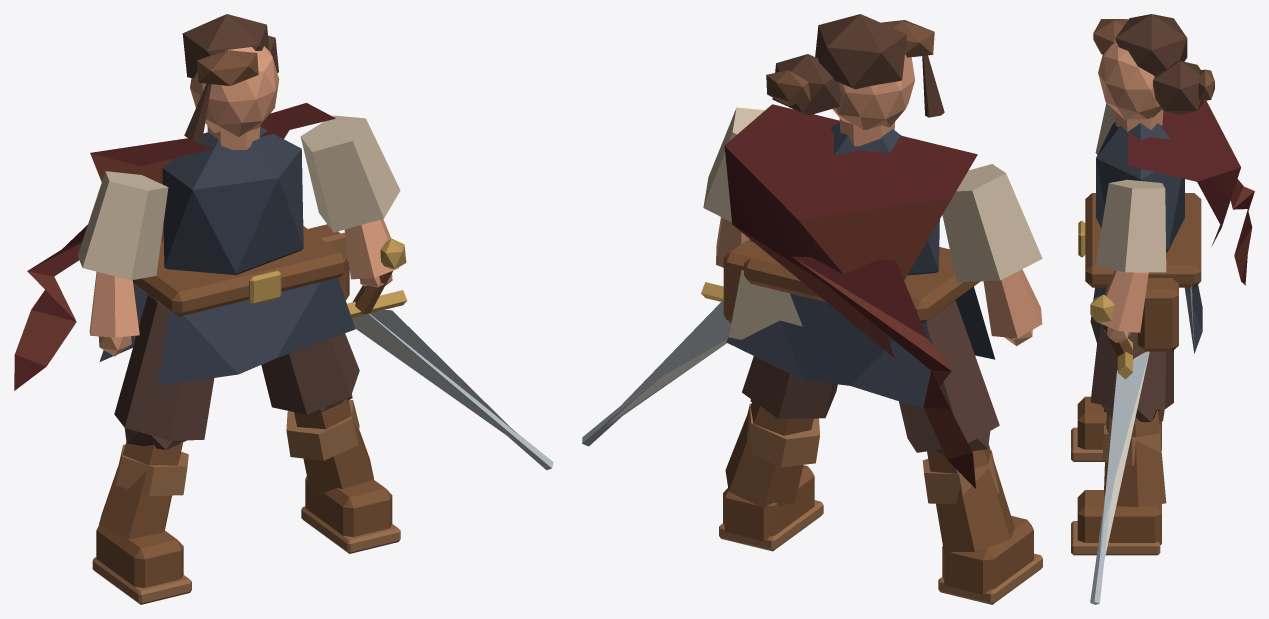
The model's file is protagonist.glb.
3 renders of one model, left to right at view 1: azimuth 30°, elevation 25°; view 2: azimuth 150°, elevation 25°; view 3: azimuth 270°, elevation 25°, orthographic. The views are drawn at different scales.
Parts seen in each view (by area): view 1: torso, split tunic tails, Arm_L linen sleeve, Arm_R linen sleeve, Leg_R thigh, belt, Leg_L thigh, cloak tail, head, red shoulder mantle, Leg_R shin, Leg_R boot (+14 smaller); view 2: red shoulder mantle, split tunic tails, cloak tail, Arm_R linen sleeve, Leg_R thigh, hair crown, Leg_R shin, Leg_L shin, belt, Leg_R boot, Leg_L thigh, Leg_L boot (+18 smaller); view 3: red shoulder mantle, Arm_L linen sleeve, torso, belt, Leg_L thigh, tapered sword blade, head, Leg_L boot, hair crown, Leg_L shin, satchel, Arm_L forearm (+17 smaller).
Part boxes in pixels (bbox=[...]): torso: bbox=[162, 127, 303, 274]; split tunic tails: bbox=[99, 278, 355, 385]; Arm_L linen sleeve: bbox=[300, 115, 400, 232]; Arm_R linen sleeve: bbox=[77, 171, 168, 280]; Leg_R thigh: bbox=[114, 294, 214, 440]; belt: bbox=[133, 226, 346, 316]; Leg_L thigh: bbox=[261, 333, 359, 414]; cloak tail: bbox=[14, 224, 87, 390]; head: bbox=[190, 46, 279, 136]; red shoulder mantle: bbox=[90, 103, 335, 241]; Leg_R shin: bbox=[99, 440, 182, 538]; Leg_R boot: bbox=[96, 525, 183, 587]; red shoulder mantle: bbox=[724, 104, 977, 357]; split tunic tails: bbox=[726, 286, 995, 408]; cloak tail: bbox=[792, 256, 975, 488]; Arm_R linen sleeve: bbox=[942, 164, 1042, 282]; Leg_R thigh: bbox=[899, 300, 999, 452]; hair crown: bbox=[815, 14, 906, 89]; Leg_R shin: bbox=[927, 444, 1014, 552]; Leg_L shin: bbox=[725, 402, 813, 507]; belt: bbox=[744, 247, 980, 323]; Leg_R boot: bbox=[942, 515, 1033, 595]; Leg_L thigh: bbox=[742, 356, 837, 418]; Leg_L boot: bbox=[723, 465, 814, 542]; red shoulder mantle: bbox=[1128, 101, 1240, 246]; Arm_L linen sleeve: bbox=[1095, 179, 1166, 272]; torso: bbox=[1096, 122, 1184, 252]; belt: bbox=[1085, 193, 1201, 287]; Leg_L thigh: bbox=[1090, 287, 1173, 409]; tapered sword blade: bbox=[1099, 351, 1149, 560]; head: bbox=[1098, 29, 1161, 120]; Leg_L boot: bbox=[1077, 490, 1161, 544]; hair crown: bbox=[1115, 14, 1187, 76]; Leg_L shin: bbox=[1104, 409, 1166, 507]; satchel: bbox=[1137, 278, 1178, 351]; Arm_L forearm: bbox=[1096, 270, 1148, 332].
Bounding box in the file's own units: 1.75 × 1.93 × 0.667.
